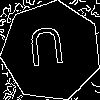U: (26, 26, 67, 76)
